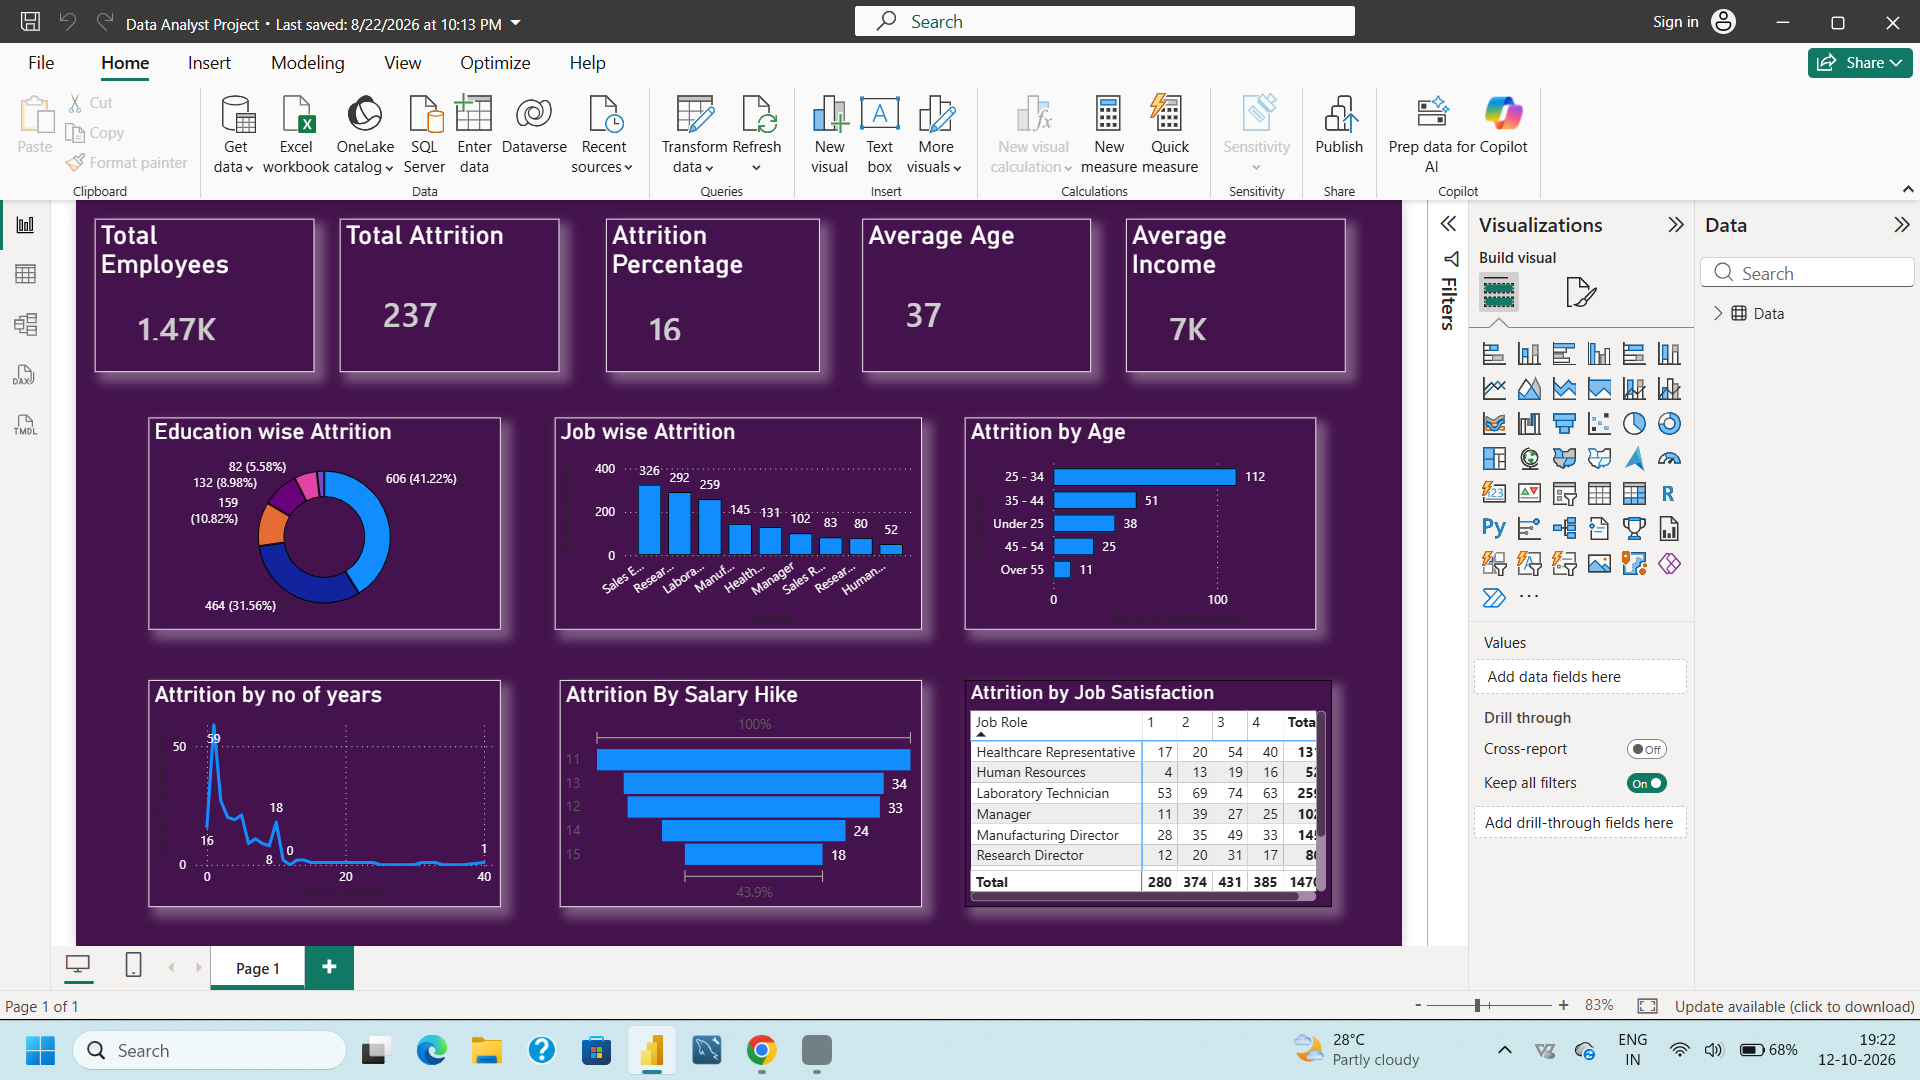

What the dashboard file says about the page in this screenshot:
{"tool":"powerbi","page":{"name":"Page 1","canvas":[1280,720],"ordinal":0},"visuals":[{"type":"cardVisual","title":"Total Employees","fields":{"Data":["Sum(Data.Employee Count)"]},"box":[18.1,18.1,212.3,148.4],"z":0},{"type":"cardVisual","title":"Total Attrition","fields":{"Data":["Sum(Data.CF_attrition counts)"]},"box":[254.6,18.1,212.3,148.4],"z":1000},{"type":"cardVisual","title":"Attrition Percentage","fields":{"Data":["Data.Attribute_percentage"]},"box":[511.5,18.1,206.3,148.4],"z":2000},{"type":"cardVisual","title":"Average Age","fields":{"Data":["Avg(Data.Age)"]},"box":[758.9,18.1,220.8,148.4],"z":3000},{"type":"cardVisual","title":"Average Income","fields":{"Data":["Avg(Data.Monthly Income)"]},"box":[1013.4,18.1,212.3,148.4],"z":4000},{"type":"donutChart","title":"Education wise Attrition","fields":{"Category":["Data.Education Field"],"Y":["CountNonNull(Data.Attrition)"]},"box":[70,209.9,340.2,205.1],"z":5000},{"type":"clusteredColumnChart","title":"Job wise Attrition","fields":{"Y":["CountNonNull(Data.Attrition)"],"Category":["Data.Job Role"]},"box":[462.1,209.9,354.7,205.1],"z":6000},{"type":"clusteredBarChart","title":"Attrition by Age","fields":{"Category":["Data.CF_age band"],"Y":["Sum(Data.CF_attrition counts)"]},"box":[857.8,209.9,339,205.1],"z":7000},{"type":"lineChart","title":"Attrition by no of years","fields":{"Y":["Sum(Data.CF_attrition count)"],"Category":["Data.Years At Company"]},"box":[70,463.3,340.2,219.6],"z":8000},{"type":"funnel","title":"Attrition By Salary Hike","fields":{"Category":["Data.Percent Salary Hike"],"Y":["Sum(Data.CF_attrition count)"]},"box":[466.9,463.3,349.9,219.6],"z":9000},{"type":"pivotTable","title":"Attrition by Job Satisfaction","fields":{"Rows":["Data.Job Role"],"Columns":["Data.Job Satisfaction"],"Values":["CountNonNull(Data.CF_attrition count)"]},"box":[857.8,463.3,354.7,219.6],"z":10000}]}

Visuals, with their boxes on the page's 1280x720 design canvas (x1, y1, x2, y2). These are canvas units, not pixel positions in the 1920x1080 screenshot, which may show the page scaled, cropped or inside an application window:
"Total Employees" cardVisual: bbox=[18, 18, 230, 166]
"Total Attrition" cardVisual: bbox=[255, 18, 467, 166]
"Attrition Percentage" cardVisual: bbox=[512, 18, 718, 166]
"Average Age" cardVisual: bbox=[759, 18, 980, 166]
"Average Income" cardVisual: bbox=[1013, 18, 1226, 166]
"Education wise Attrition" donutChart: bbox=[70, 210, 410, 415]
"Job wise Attrition" clusteredColumnChart: bbox=[462, 210, 817, 415]
"Attrition by Age" clusteredBarChart: bbox=[858, 210, 1197, 415]
"Attrition by no of years" lineChart: bbox=[70, 463, 410, 683]
"Attrition By Salary Hike" funnel: bbox=[467, 463, 817, 683]
"Attrition by Job Satisfaction" pivotTable: bbox=[858, 463, 1212, 683]
